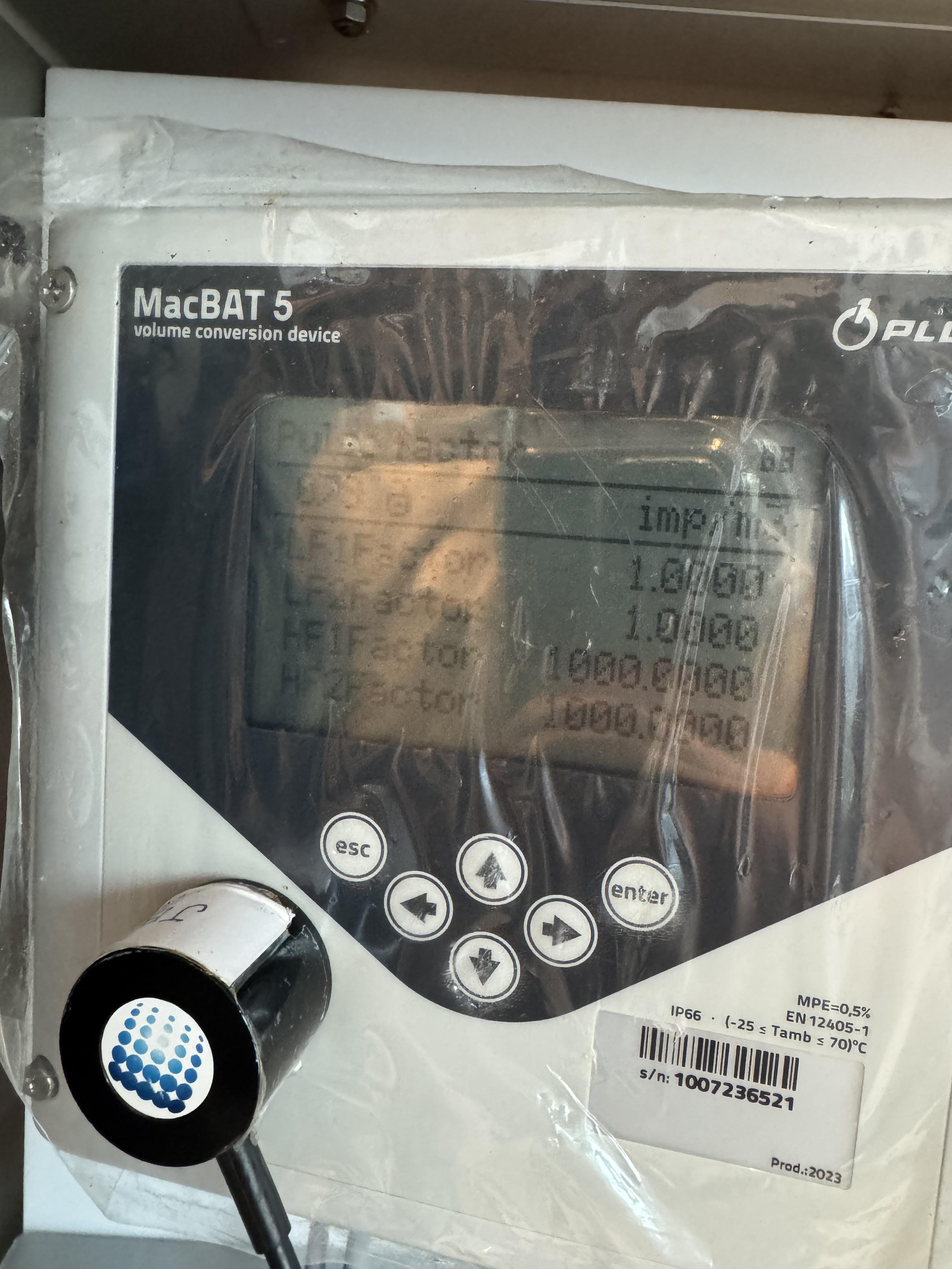digital_screen: (244, 398, 829, 798)
